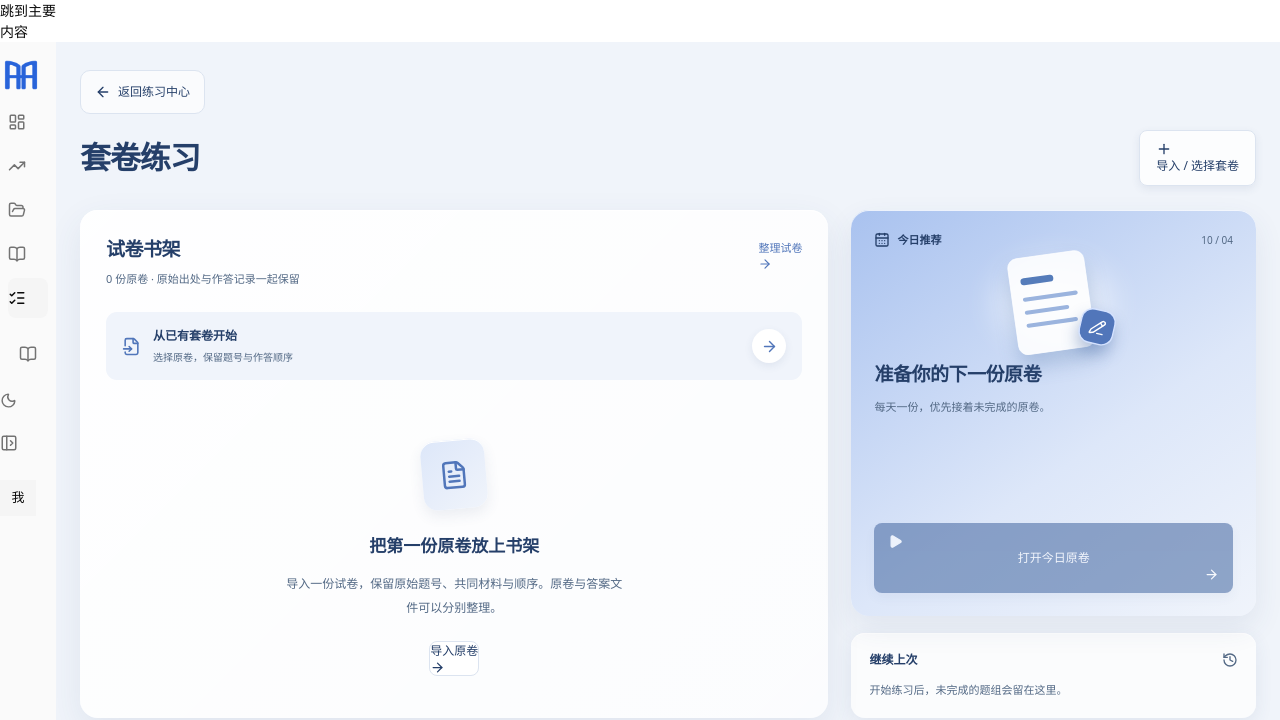
Test: opens practice sections as separate pages and keeps old exam links working
Click the button "返回练习中心". click: (142, 92)
box: [80, 70, 205, 114]
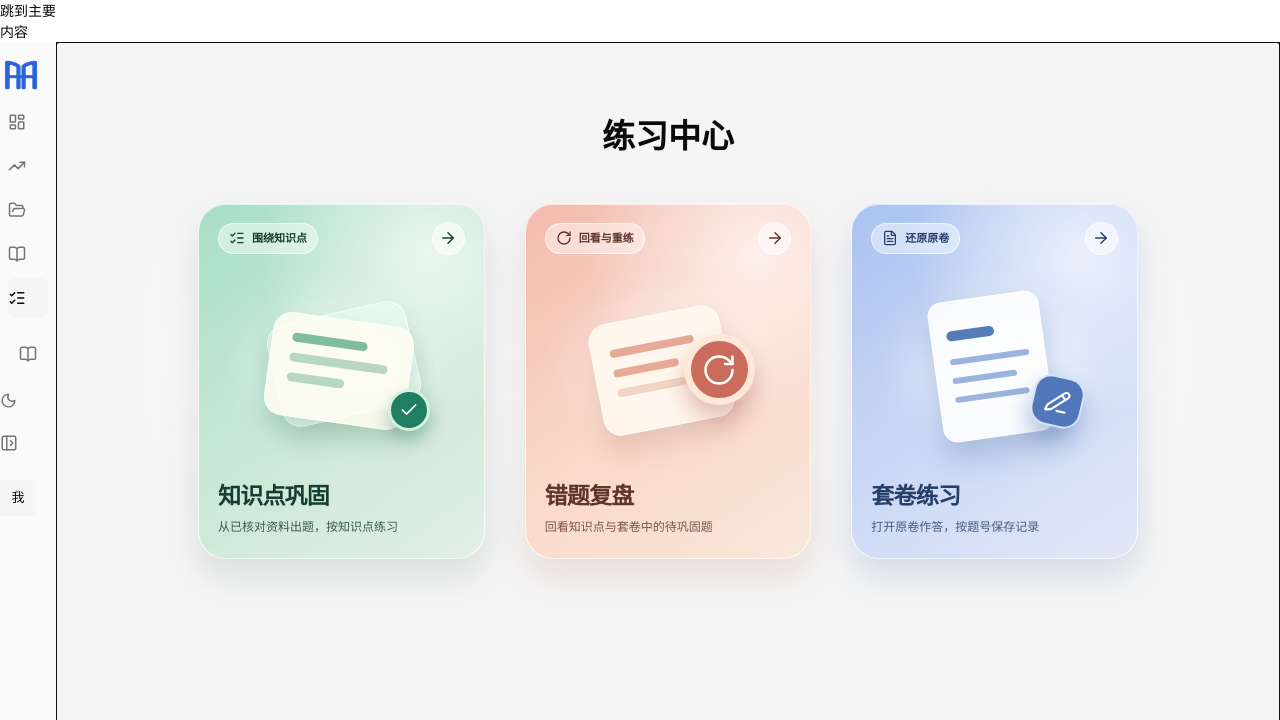
Click the button "回看与重练 错题复盘 回看知识点与套卷中的待巩固题". click: (668, 381)
box: [525, 203, 811, 559]
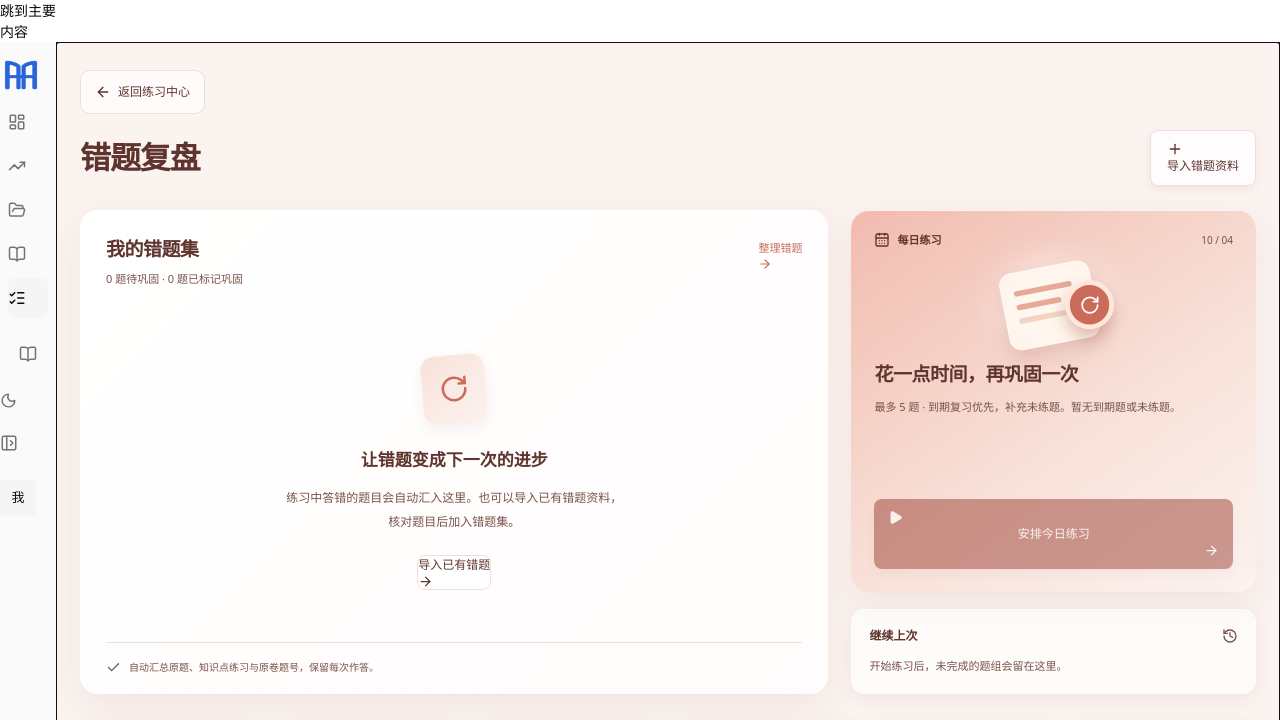
Now the navigation bar with class "hub-mistakes" showing "返回练习中心" is shown, box [80, 70, 205, 114]
